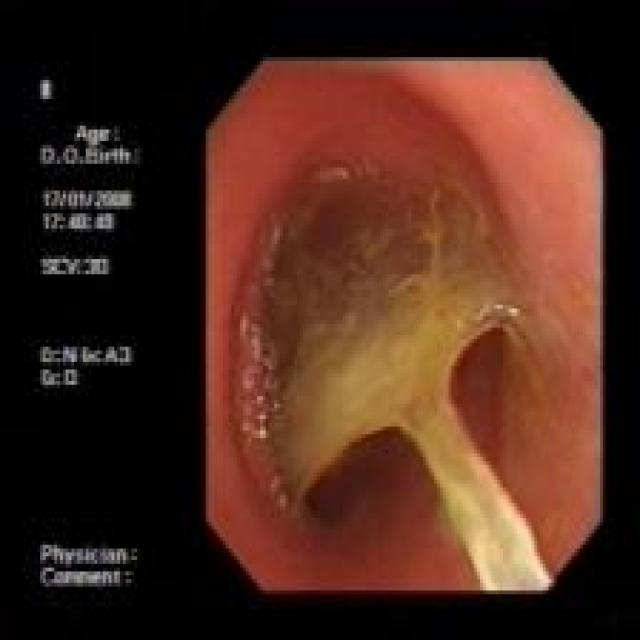color misalignment: (266, 183, 551, 590), (33, 73, 149, 603)
